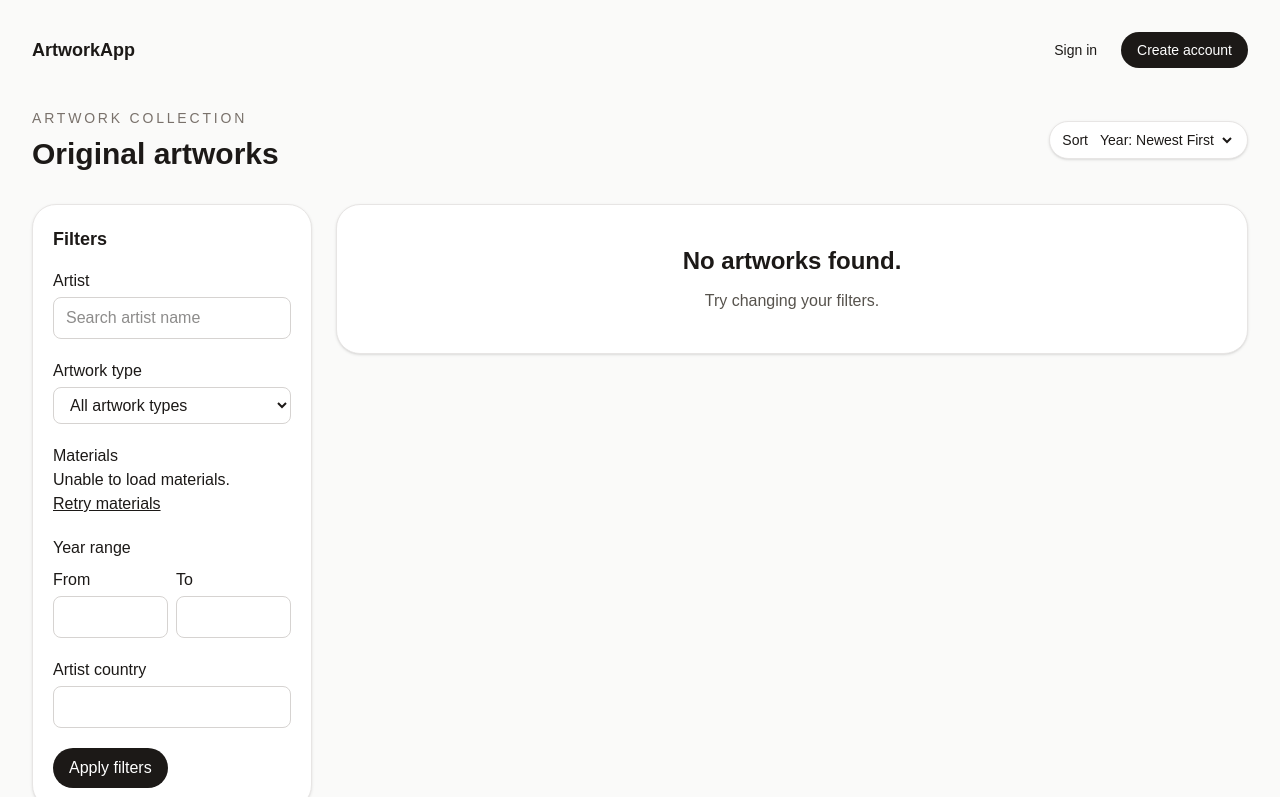
Test case: artwork filters › keeps other controls usable when a taxonomy lookup fails and supports retry
Expected: the text "Unable to load materials." is shown, [53,471,230,488]
Expected: the dropdown labelled "Artwork type" is enabled, [53,387,291,424]
Click the button "Retry materials": (107, 504) [53,492,161,516]
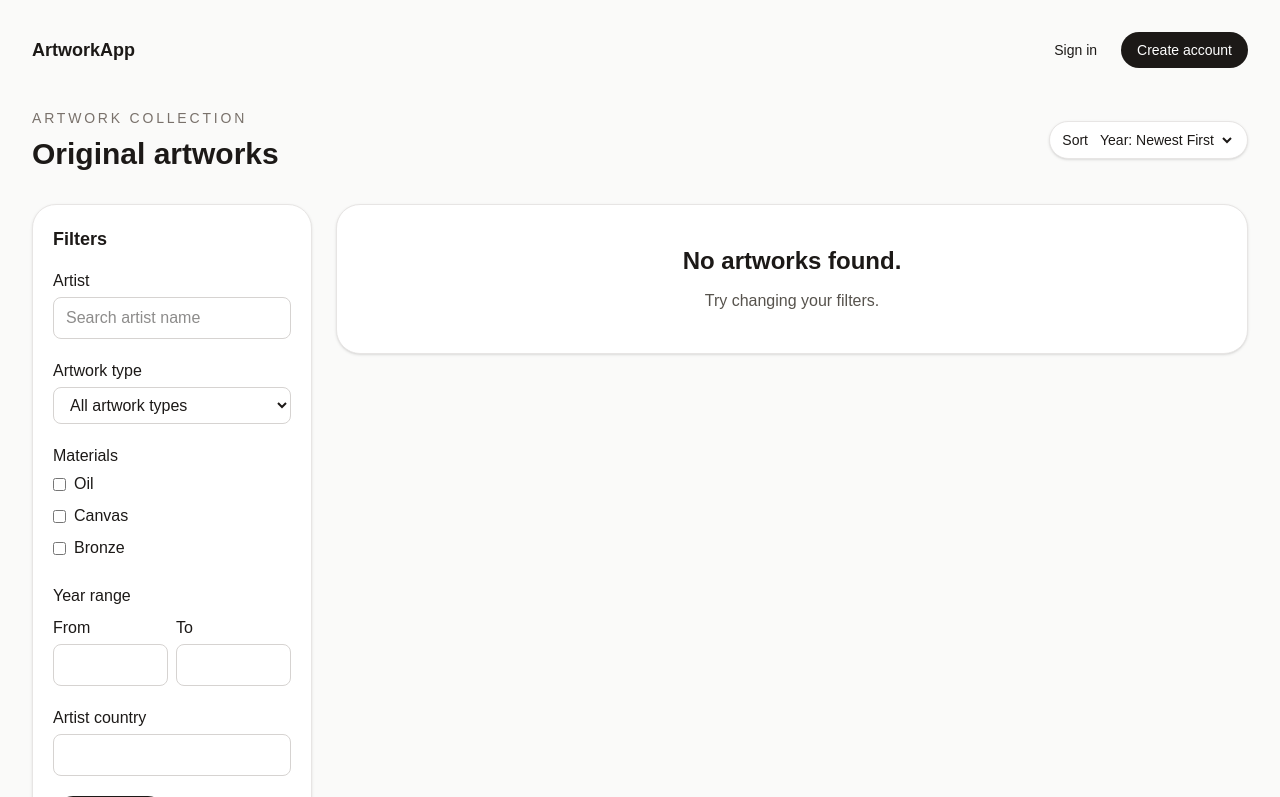
Result: the checkbox labelled "Oil" is shown at [53,478,66,490]
